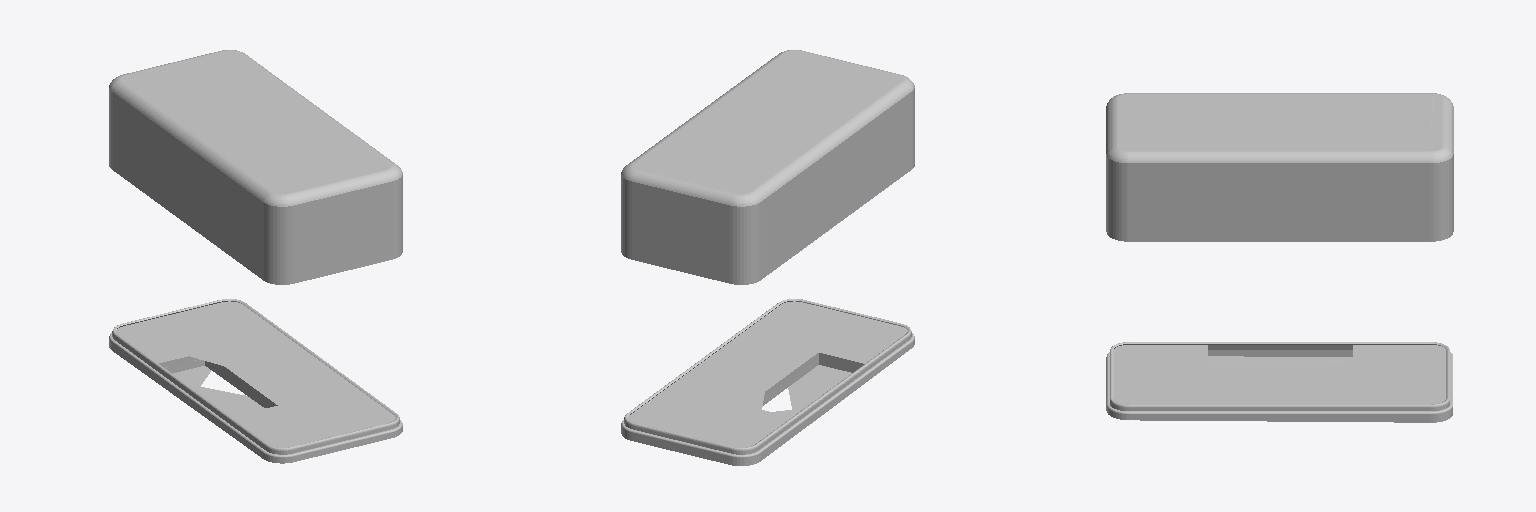
The model's file is case.obj.
The picture shows the model from 3 angles: view 1: azimuth 30°, elevation 25°; view 2: azimuth 150°, elevation 25°; view 3: azimuth 270°, elevation 25°; orthographic projection.
Parts seen in each view (by area): view 1: Cube, Cube.002; view 2: Cube, Cube.002; view 3: Cube, Cube.002.
Part boxes in pixels (bbox=[...]): Cube: bbox=[109, 50, 402, 284]; Cube.002: bbox=[109, 299, 402, 463]; Cube: bbox=[621, 50, 914, 284]; Cube.002: bbox=[621, 299, 914, 465]; Cube: bbox=[1106, 93, 1453, 241]; Cube.002: bbox=[1106, 342, 1452, 422].
Bounding box in the file's own units: 27.91 × 52.14 × 61.36.